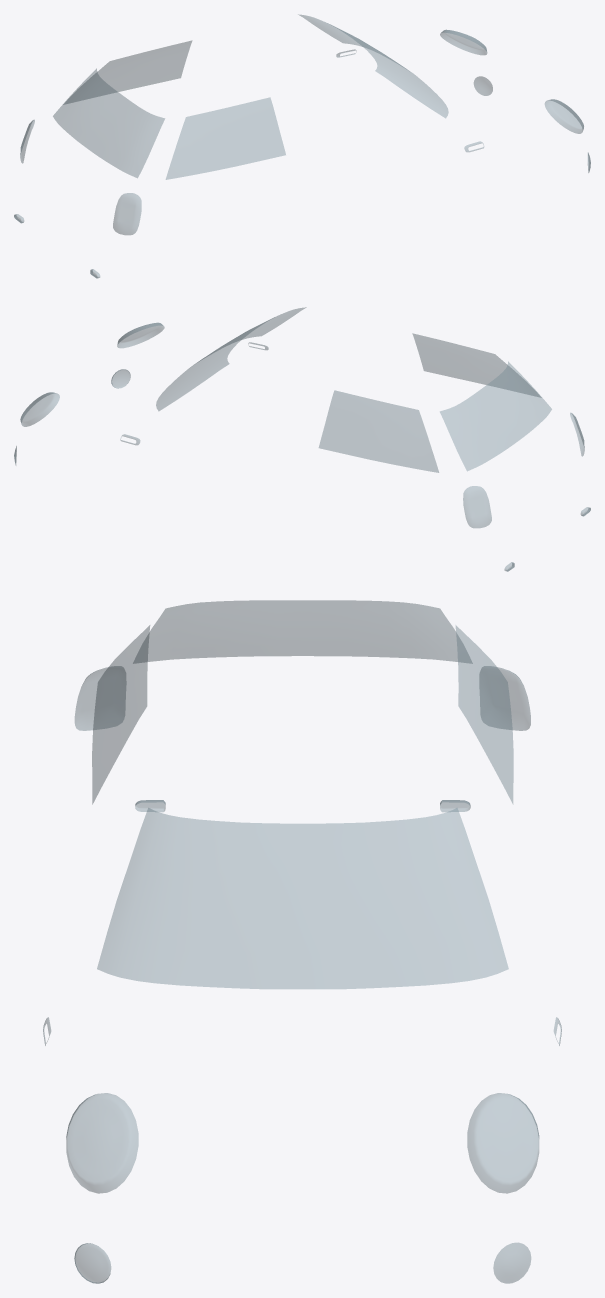
3 views of the same model, one above another, from view 1: azimuth 30°, elevation 25°; view 2: azimuth 150°, elevation 25°; view 3: azimuth 270°, elevation 25° (orthographic). The views are drawn at different scales.
Parts seen in each view (by area): view 1: SM_MiniCooper_Glass_Int1; view 2: SM_MiniCooper_Glass_Int1; view 3: SM_MiniCooper_Glass_Int1.
Part boxes in pixels (box(x1,y1,x2,y2)): SM_MiniCooper_Glass_Int1: box(14, 14, 590, 278); SM_MiniCooper_Glass_Int1: box(14, 307, 590, 571); SM_MiniCooper_Glass_Int1: box(43, 600, 561, 1283).
Bounding box in the file's own units: 4.34 × 1.2 × 2.01.
